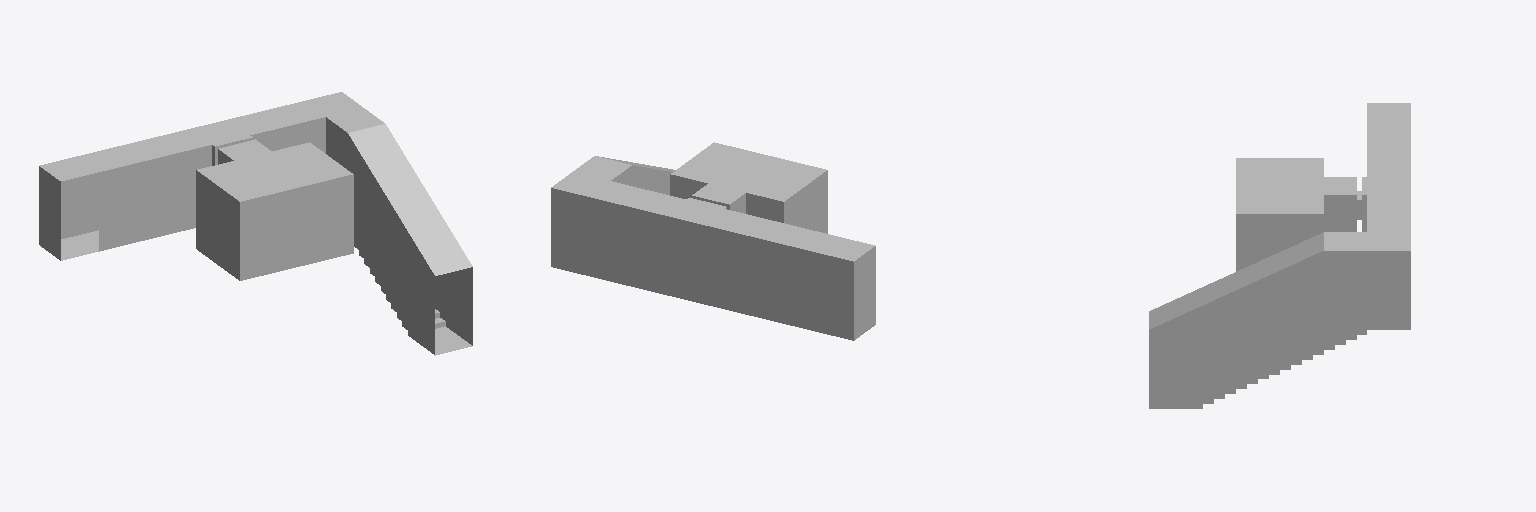
Rendered from map1.obj.
The picture shows the model from 3 angles: view 1: azimuth 30°, elevation 25°; view 2: azimuth 150°, elevation 25°; view 3: azimuth 270°, elevation 25°; orthographic projection.
Visible parts, largest first — view 1: map1; view 2: map1; view 3: map1.
Boxes of the visible parts, x1,y1,x2,y2 form: map1: [39, 92, 472, 355]; map1: [551, 142, 875, 340]; map1: [1149, 103, 1410, 408].
Size of the model in its own units: 8 by 4 by 6.